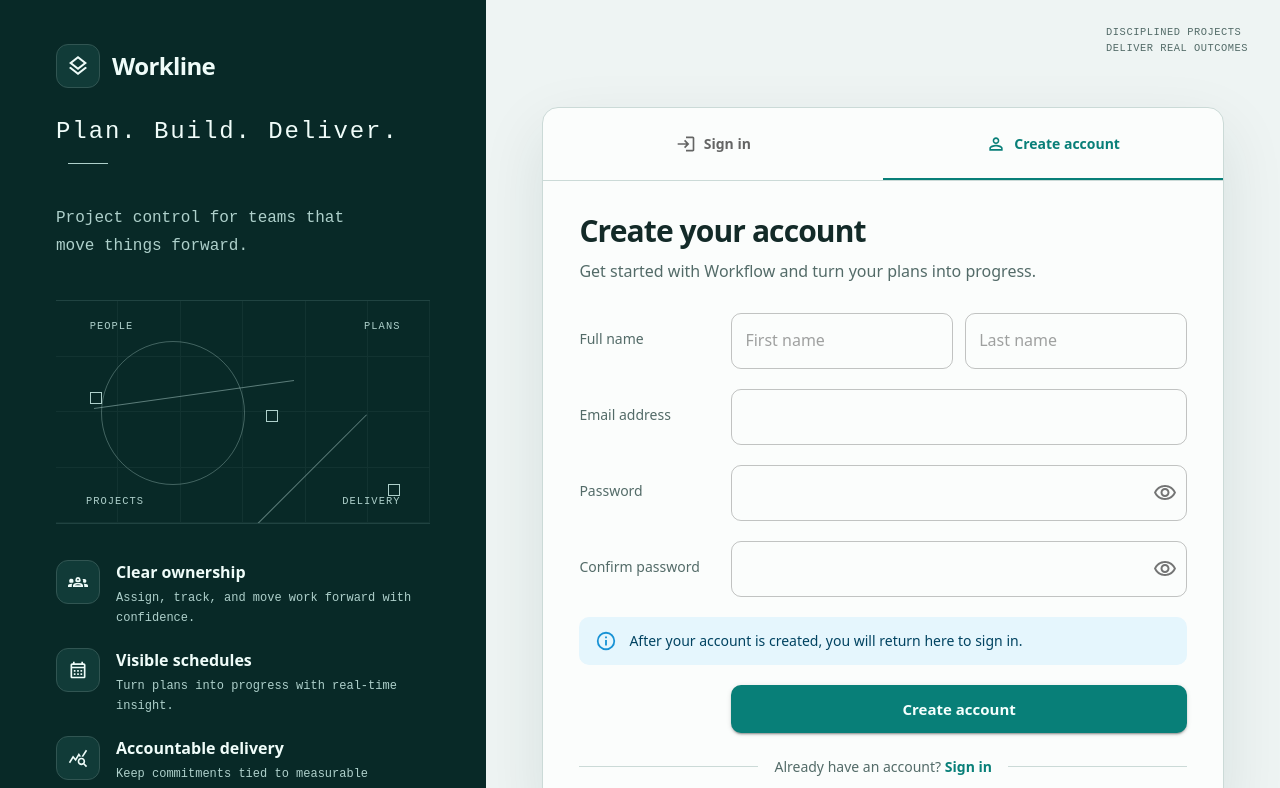
Test: registration flow › shows duplicate-email and rate-limit failures
Type "Taylor" into the field labelled "First name" at (842, 341), box [731, 313, 953, 369]
Type "Kim" into the field labelled "Last name" at (1076, 341), box [965, 313, 1187, 369]
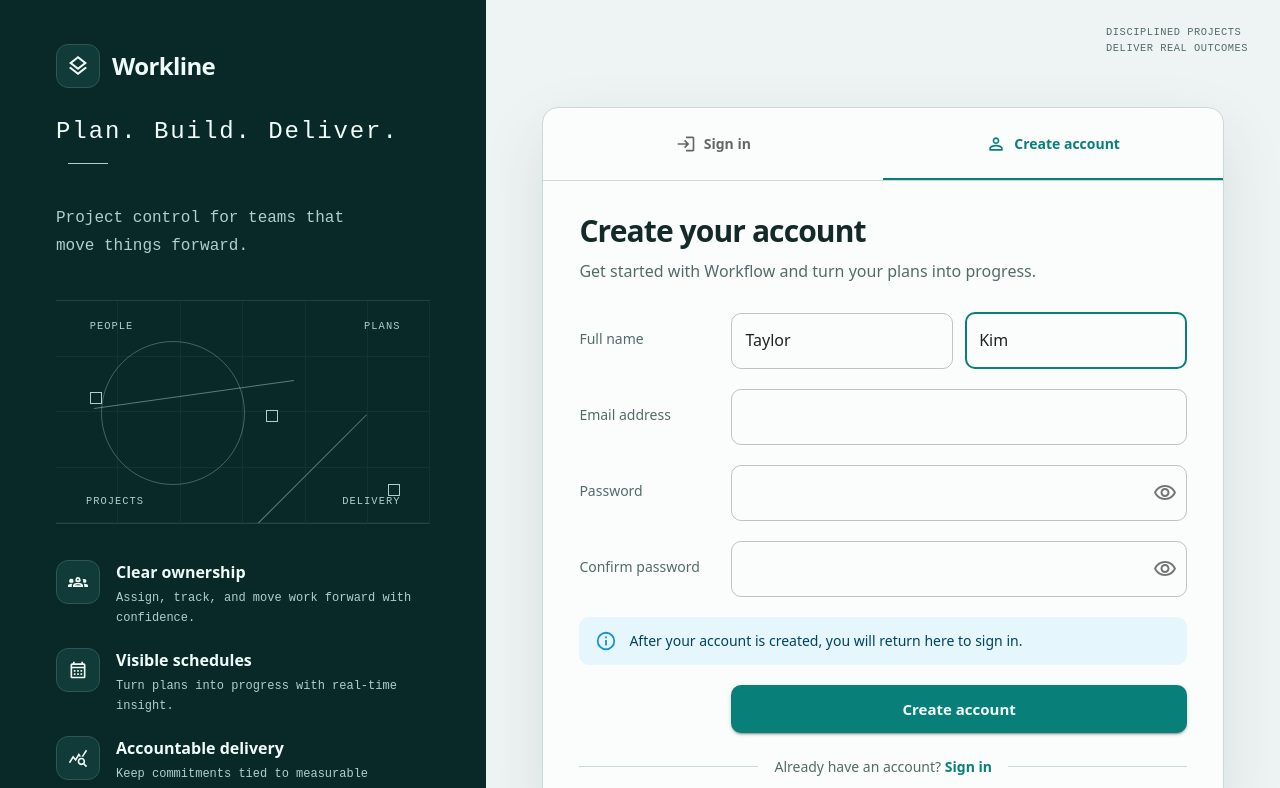
Type "taylor@example.com" into the field labelled "Email address" at (959, 417), box [731, 389, 1187, 445]
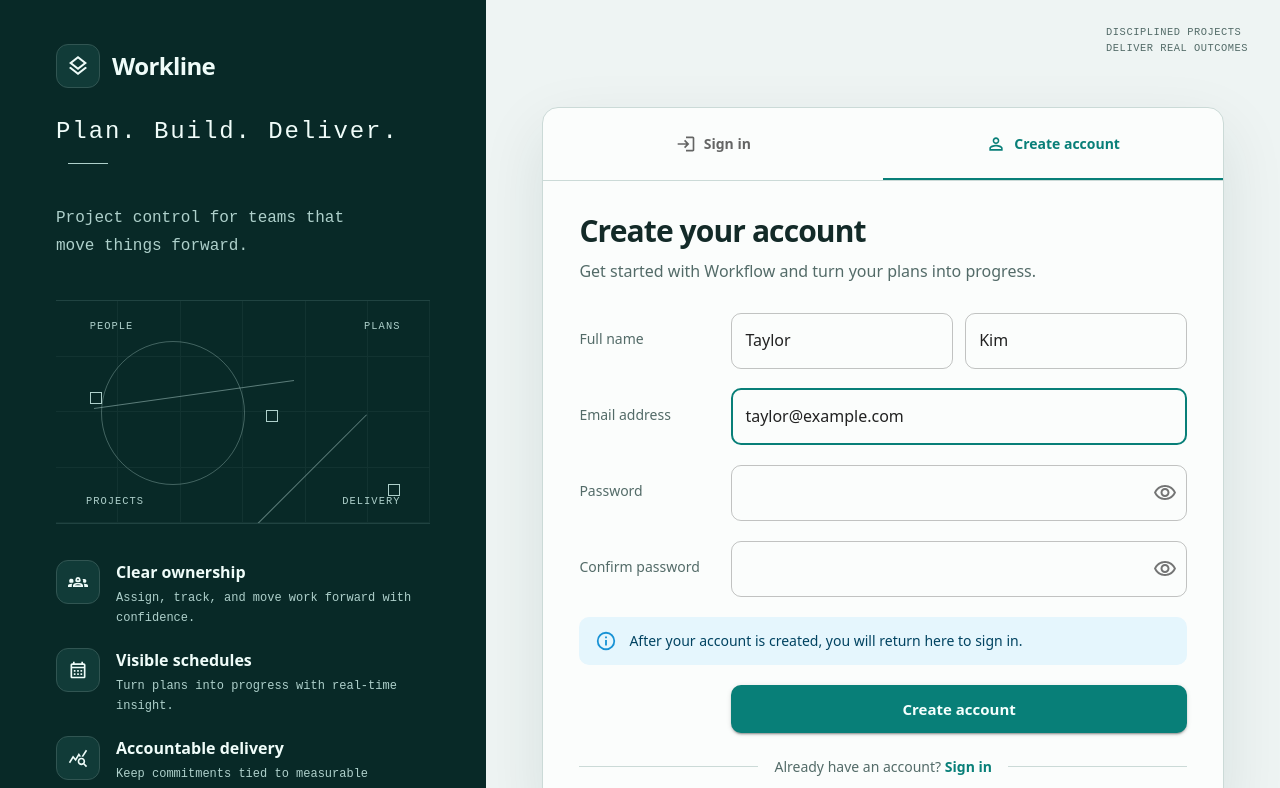
Type "secret1" into the password field labelled "Password" at (934, 493), box [731, 465, 1137, 521]
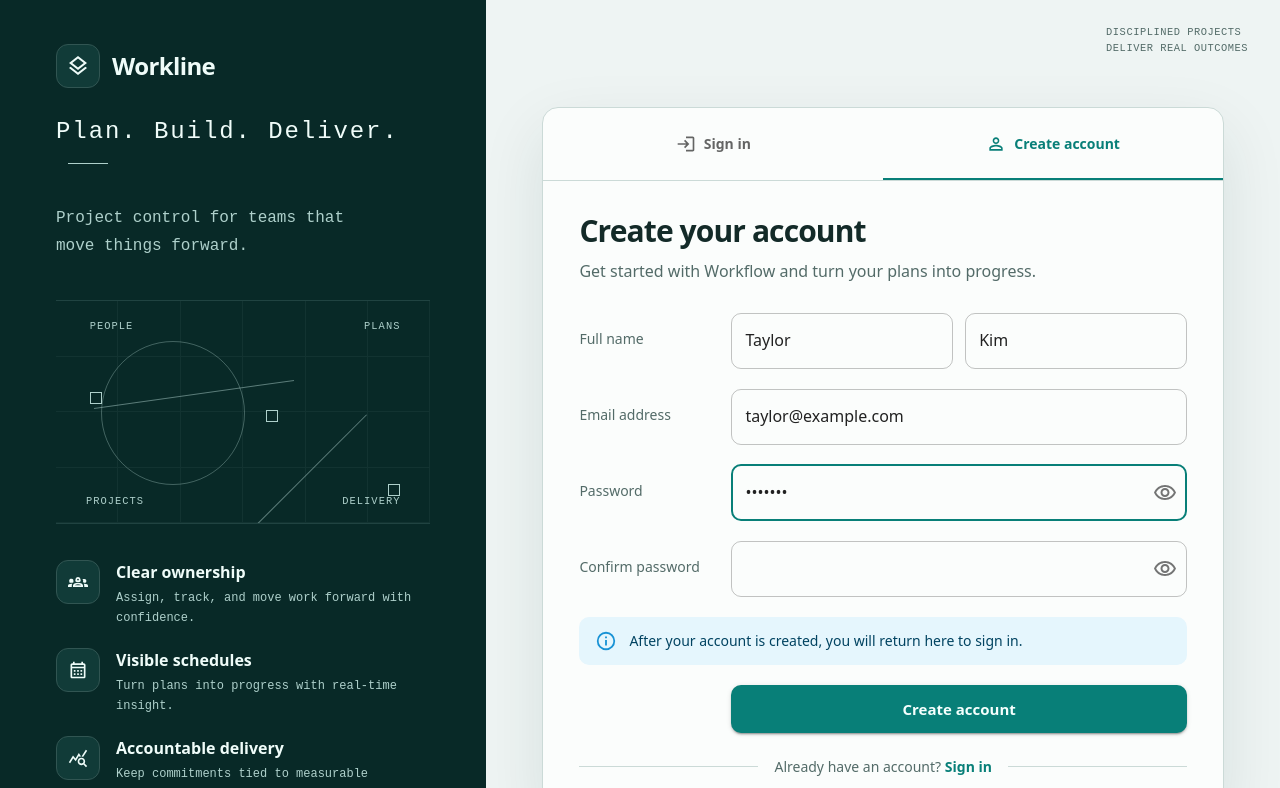
Type "secret1" into the password field labelled "Confirm password" at (934, 569), box [731, 541, 1137, 597]
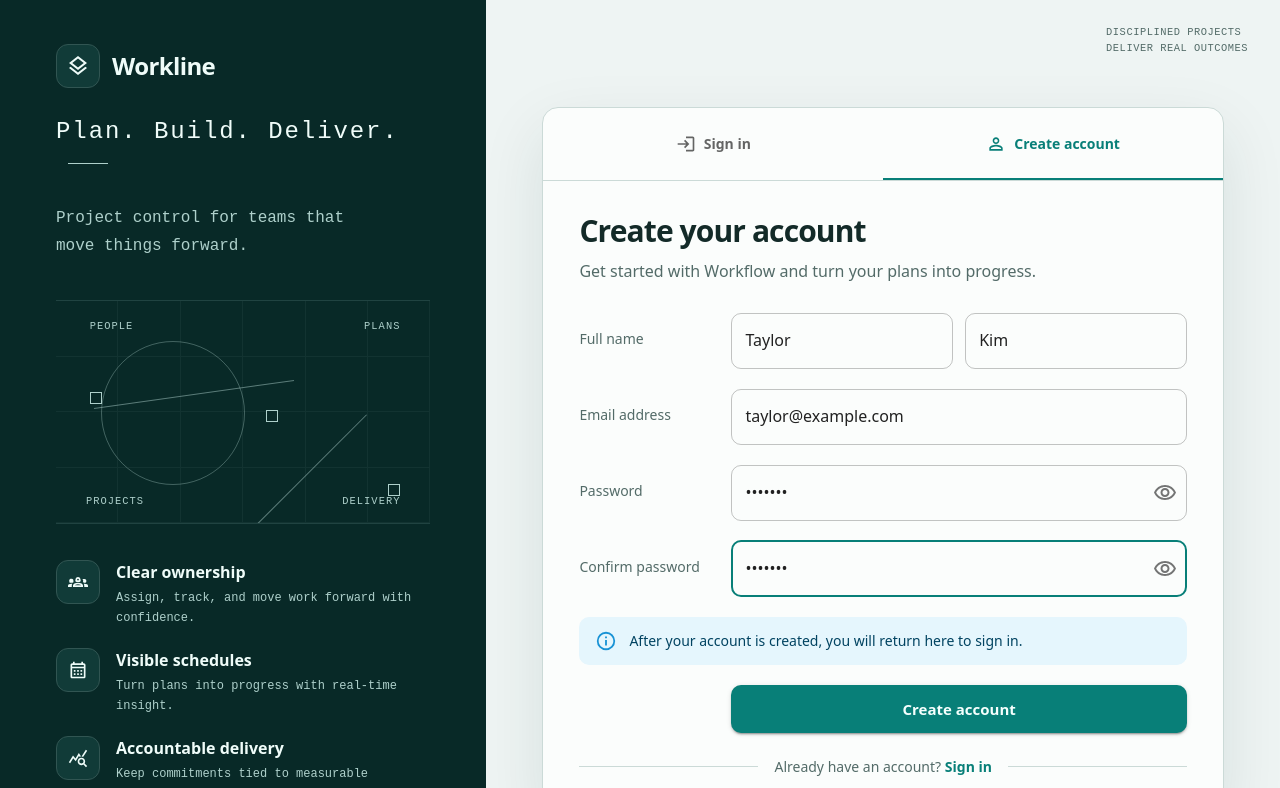
Click the button "Create account" at (959, 709), box [731, 685, 1187, 733]
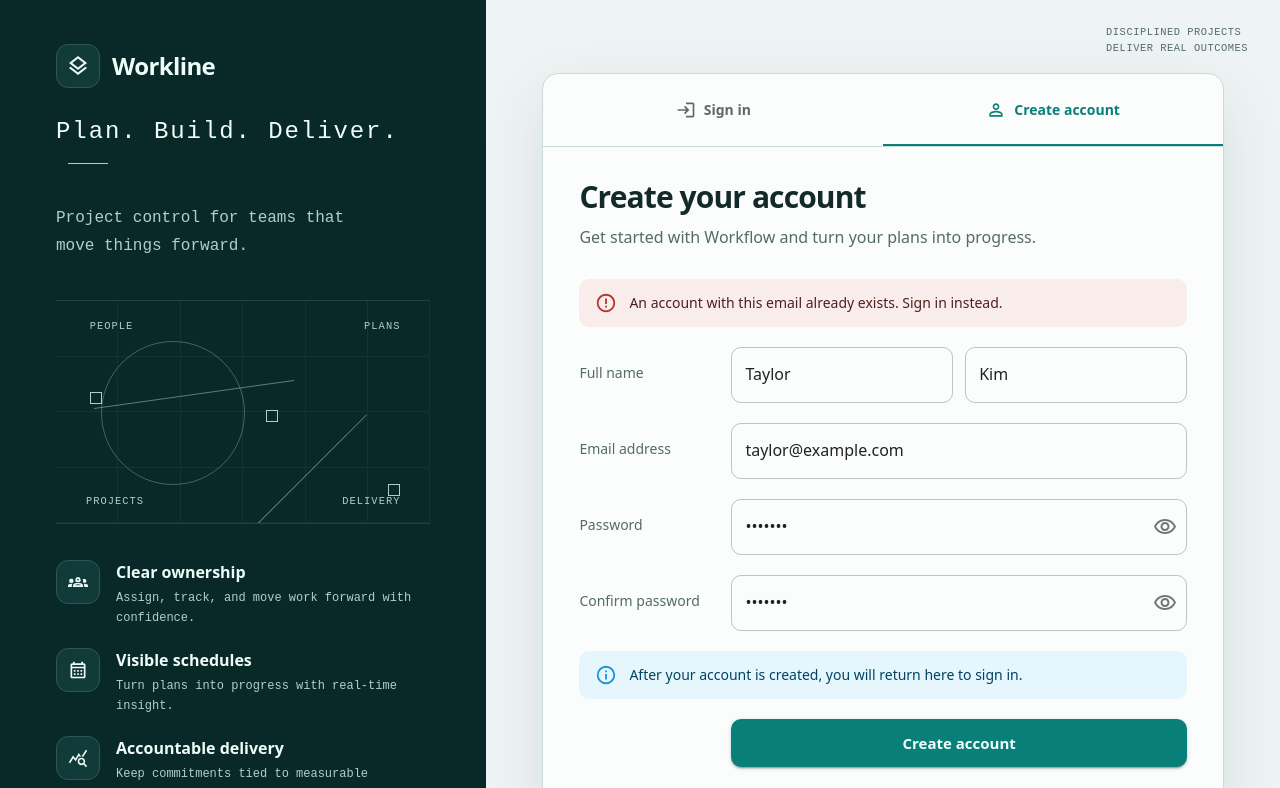
Now the text "An account with this email already exists. Sign in instead." is shown, box [629, 293, 1003, 312]
Click the button "Create account" at (959, 743), box [731, 719, 1187, 767]
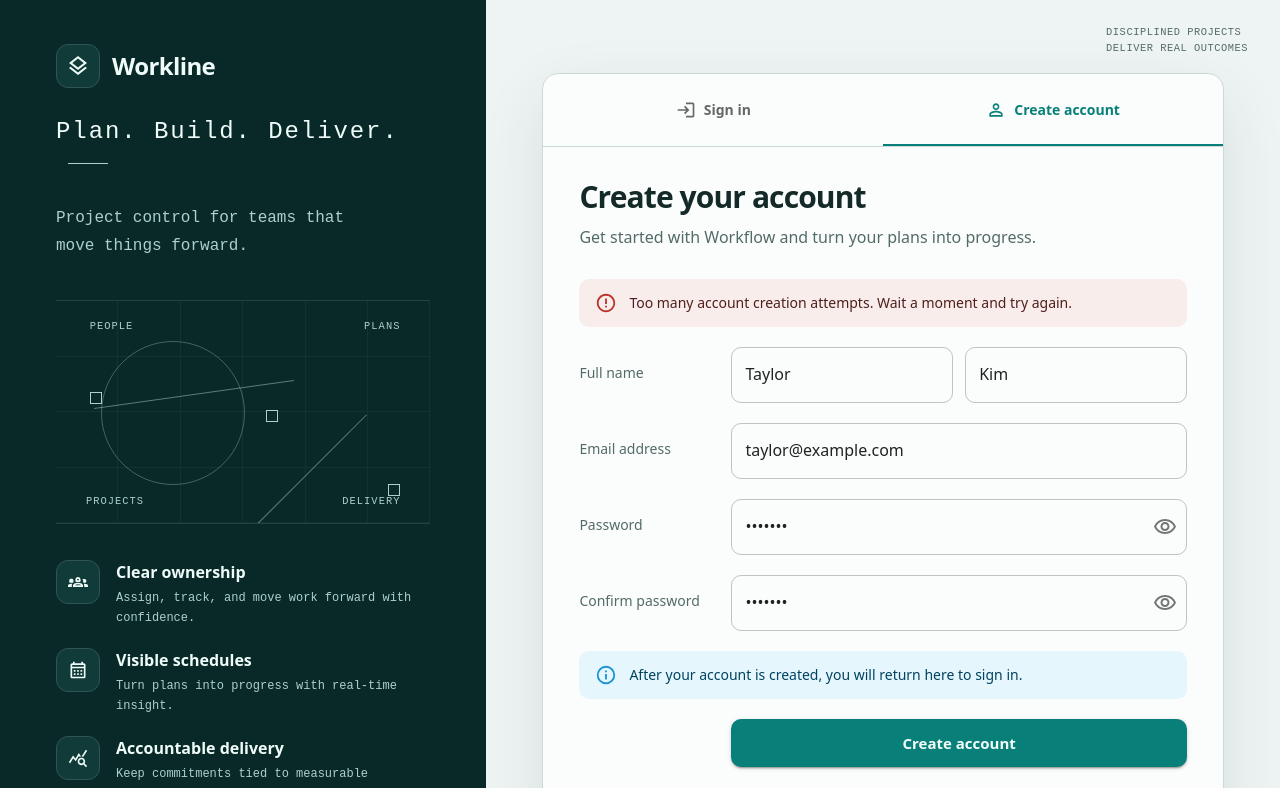
Now the text "Too many account creation attempts. Wait a moment and try again." is shown, box [629, 293, 1072, 312]
